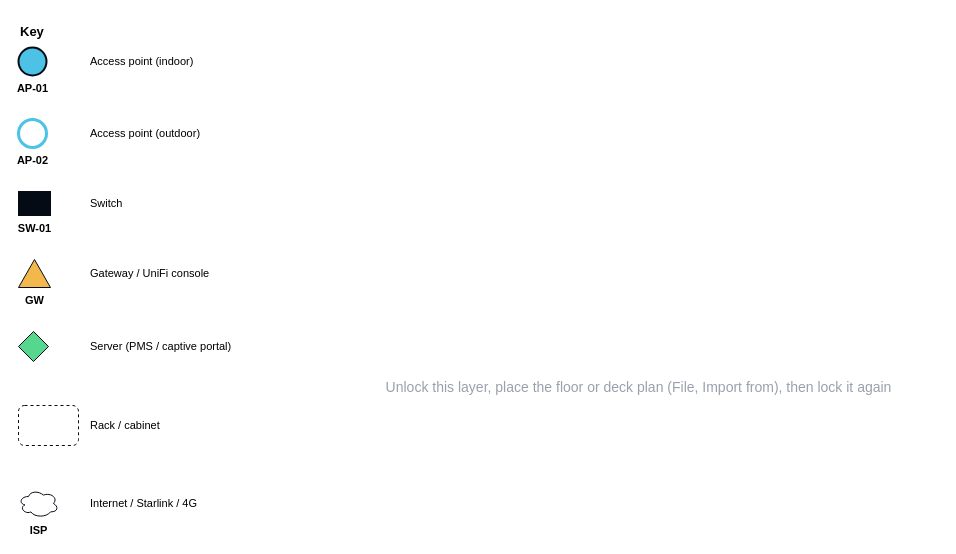
This 956x554 diagram has some shape labels left out. The centre of each missing label's shape, as x and y in pixels:
"Rack" belongs at [48,425].
"SRV" belongs at [33,346].
